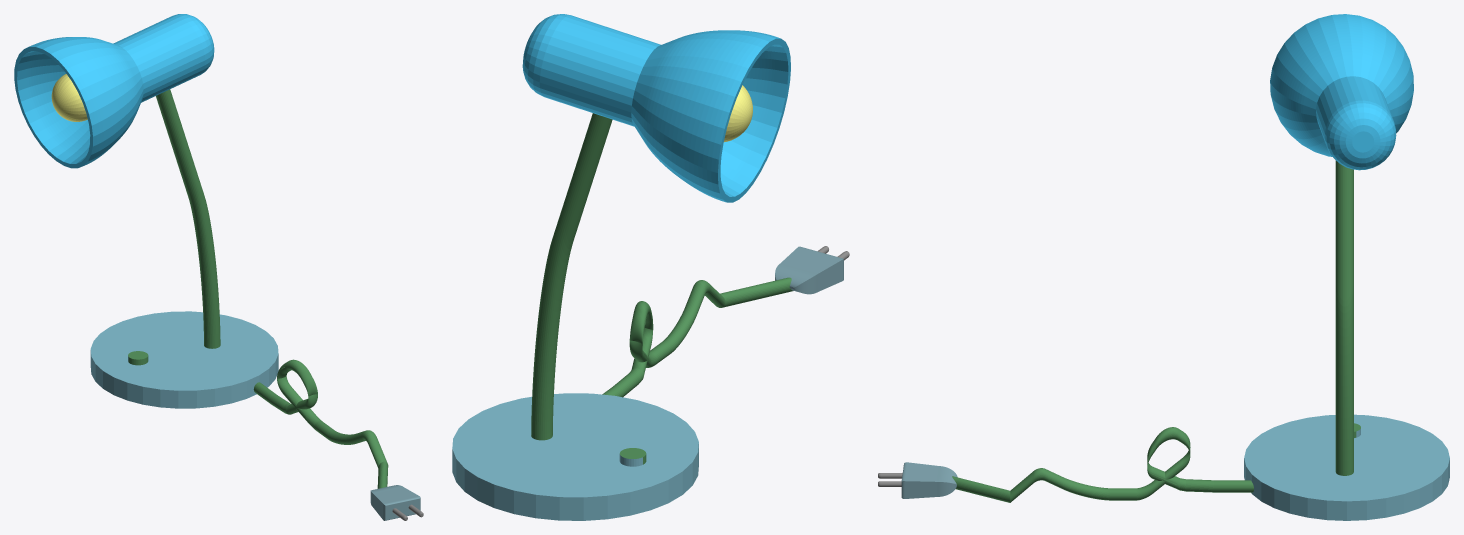
The model's file is masalambası.fbx.
3 renders of one model, left to right at view 1: azimuth 30°, elevation 25°; view 2: azimuth 150°, elevation 25°; view 3: azimuth 270°, elevation 25°, orthographic. The views are drawn at different scales.
Visible parts, largest first — view 1: dış, alt, Cylinder.001, Cube, Cylinder; view 2: dış, alt, Cylinder.001, Cube, Cylinder; view 3: dış, alt, Cylinder.001, Cube.
Part boxes in pixels (box(x1,y1,x2,y2)): dış: box(14, 14, 214, 168); alt: box(90, 311, 278, 408); Cylinder.001: box(128, 89, 388, 488); Cube: box(370, 485, 423, 520); Cylinder: box(51, 74, 87, 121); dış: box(522, 14, 790, 202); alt: box(452, 393, 698, 520); Cylinder.001: box(531, 113, 793, 466); Cube: box(775, 246, 849, 294); Cylinder: box(724, 85, 752, 142); dış: box(1270, 14, 1413, 170); alt: box(1244, 414, 1449, 520); Cylinder.001: box(952, 160, 1360, 502); Cube: box(878, 462, 957, 498).
Size of the model in its own units: 792 by 1209 by 1593.
